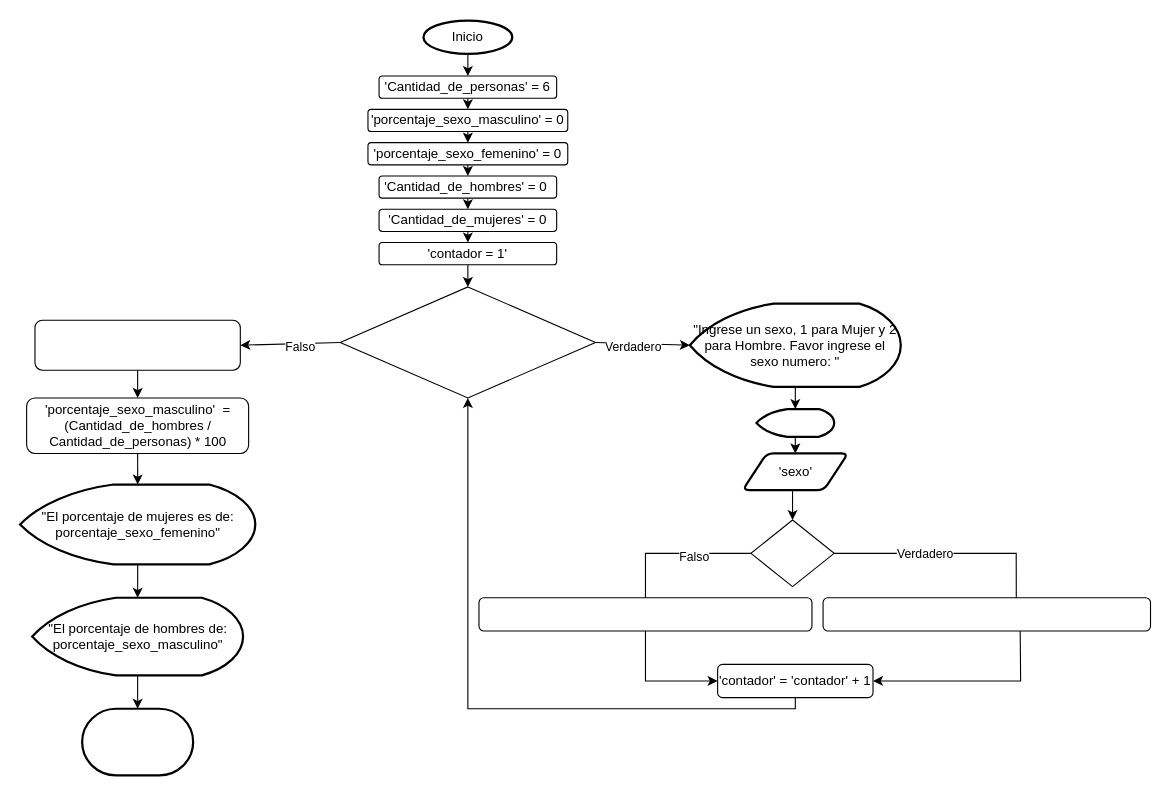
Some shapes in this 1170 by 795 pixel diagram are drawn without their labels. Here are the shapes that lost their labels. From the top down, the centre of each, then its label:
point 137,344: 'porcentaje_sexo_femenino' = (Cantidad_de_mujeres / Cantidad_de_personas) * 100
point 467,342: ('contador' ≤ 'Cantidad_de_personas')
point 795,422: 'Contador'
point 792,553: 'sexo'= 1
point 645,614: 'Cantidad_de_hombres' = 'Cantidad_de_hombres' + 1
point 986,614: 'Cantidad_de_mujeres' = 'Cantidad_de_mujeres' + 1
point 137,741: Fin
